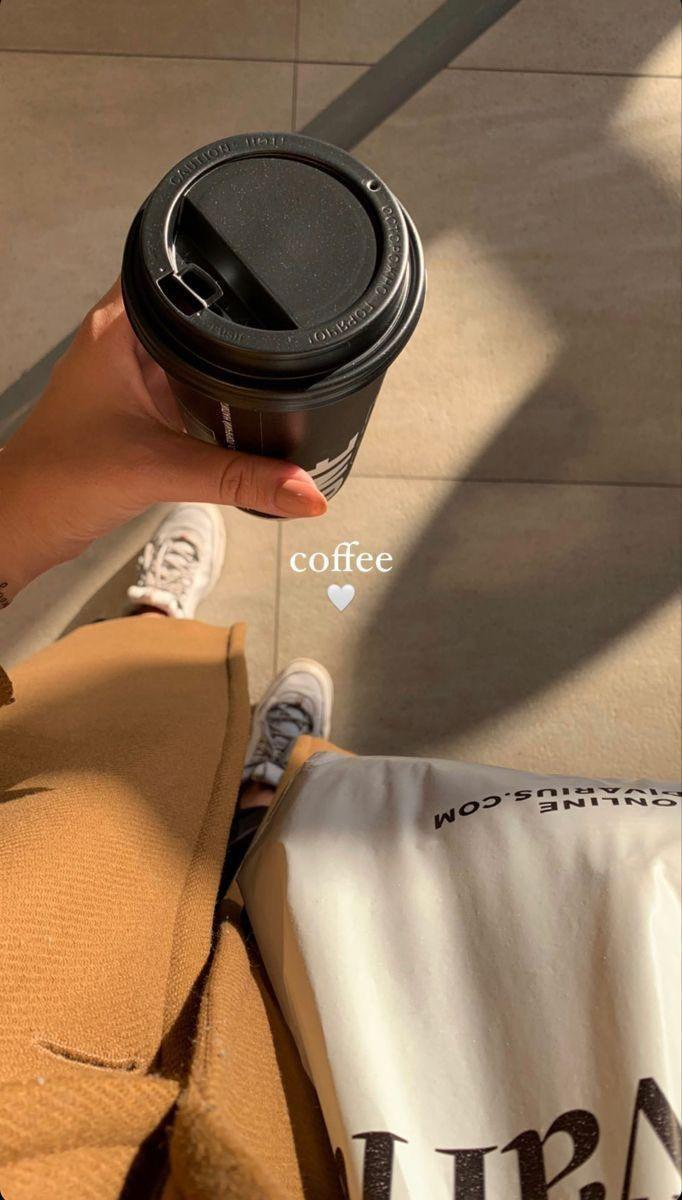cup-disposable: (120, 130, 429, 525)
